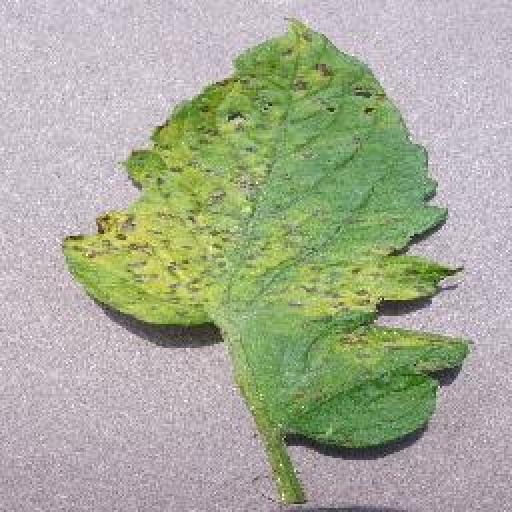disease_tomato: (56, 20, 471, 448)
